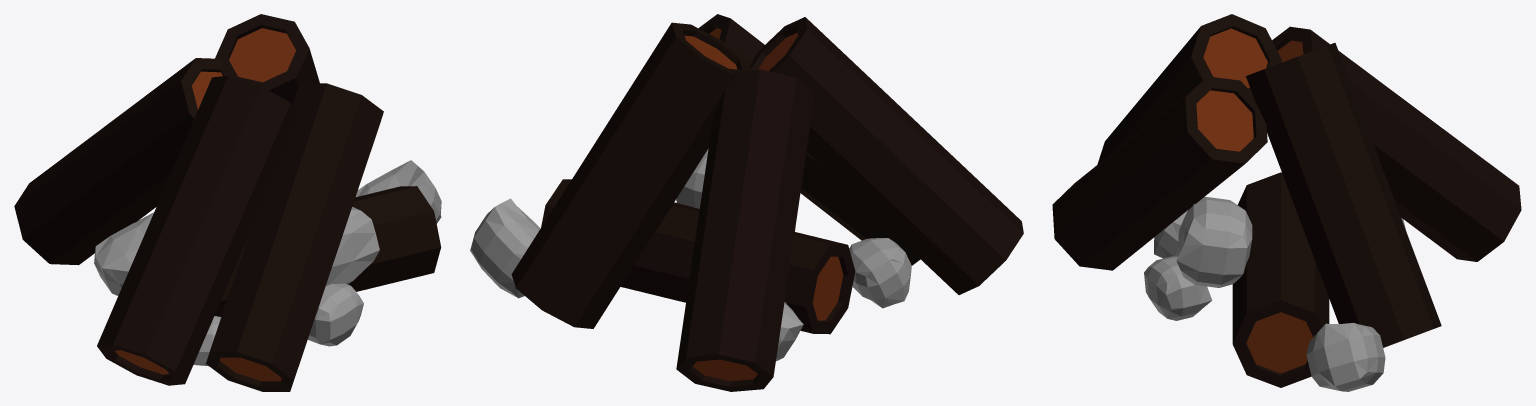
File: Campfire001.FBX
The picture shows the model from 3 angles, left to right: view 1: azimuth 30°, elevation 25°; view 2: azimuth 150°, elevation 25°; view 3: azimuth 270°, elevation 25°; orthographic projection. The views are drawn at different scales.
Parts seen in each view (by area): view 1: Box001; view 2: Box001; view 3: Box001.
Part boxes in pixels (x1,y1,x2,y2): Box001: (14,14,441,391); Box001: (470,14,1023,391); Box001: (1052,14,1521,391).
Size of the model in its own units: 41.03 by 25.26 by 38.73.
